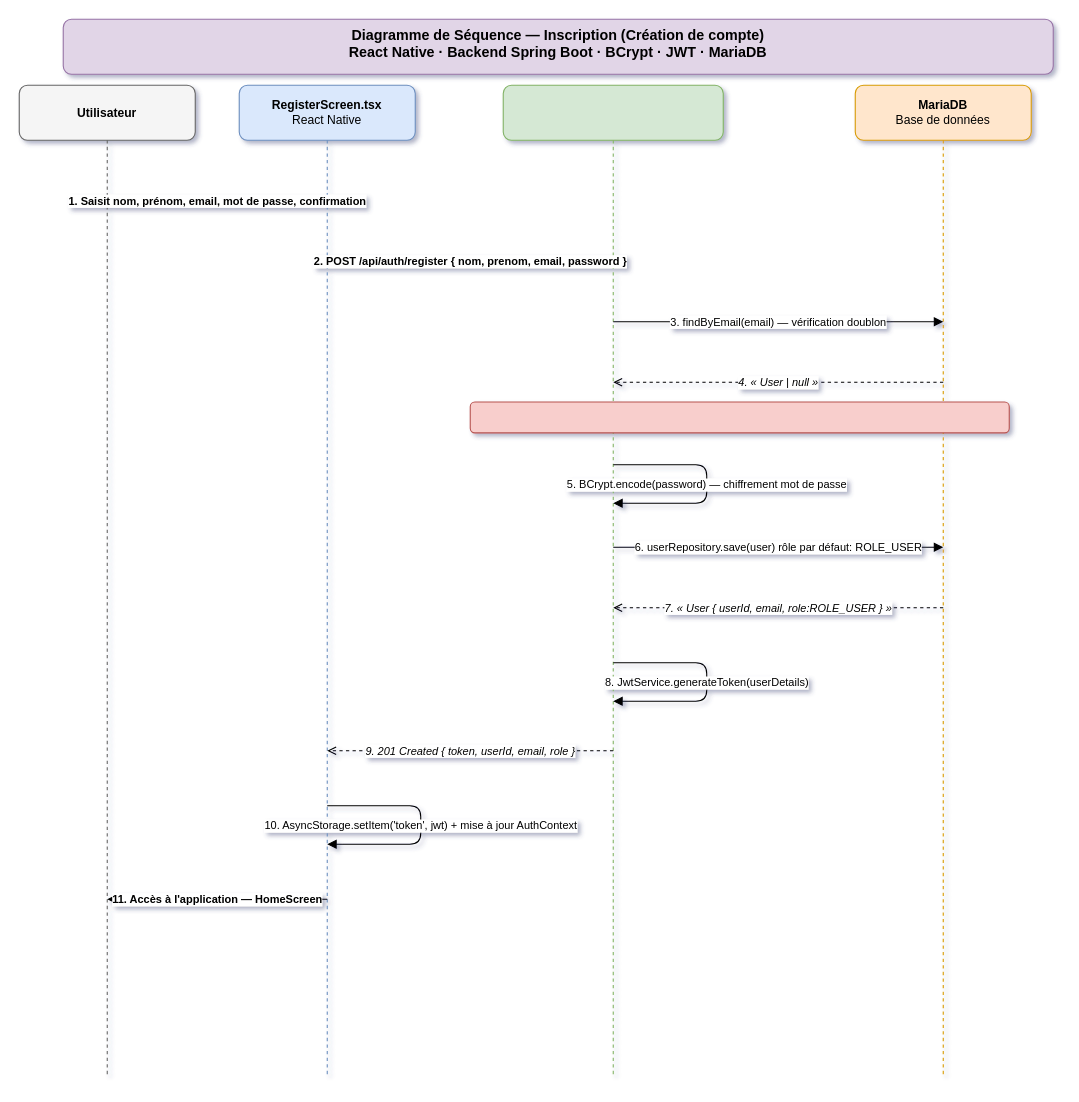
This 1079x1102 diagram has some shape labels left out. The shapes that lost their labels are listed below. From the top down, each one's centre as x and y in pixels, then its label:
At pixel 612 112: "Backend API Spring Boot · AuthService · BCrypt".
At pixel 739 417: "[Si email existant → 409 Conflict — RegisterScreen affiche 'Email déjà utilisé']".
